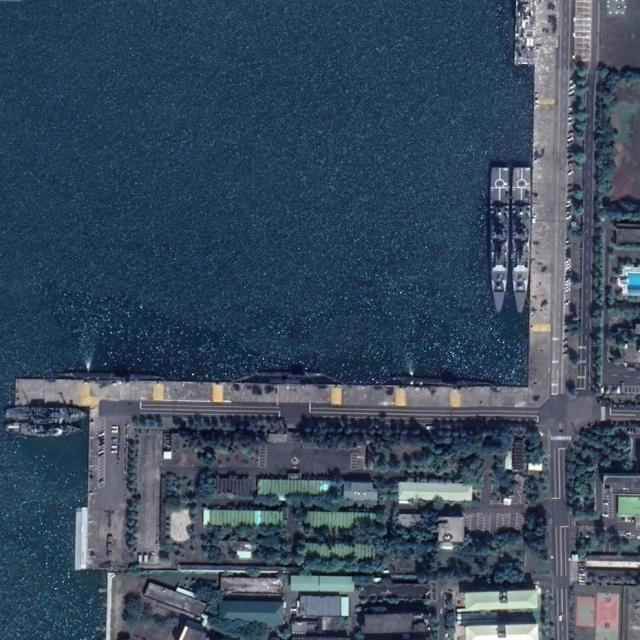Frigate: (489, 167, 510, 314), (511, 167, 531, 315)
Submarine: (390, 374, 491, 388), (55, 368, 160, 381), (255, 370, 323, 381)
